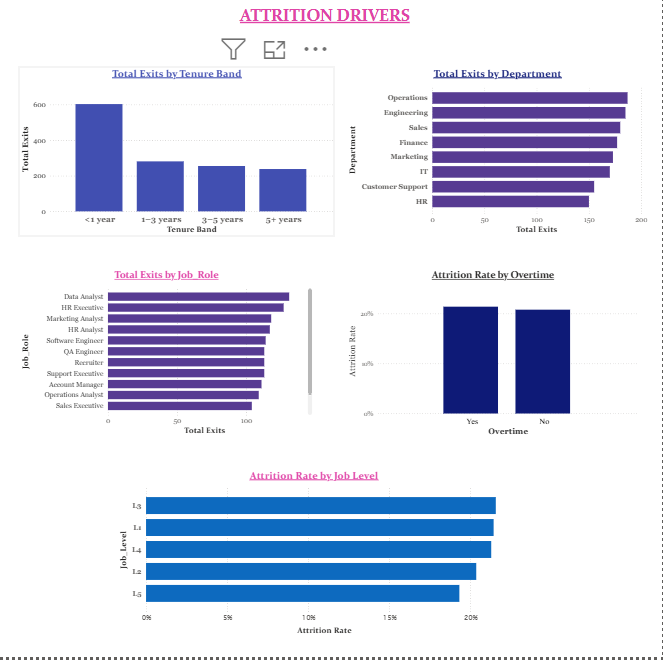

The dashboard page shown, as its layout file describes it:
{"tool":"powerbi","page":{"name":"Page 2","canvas":[1280,1280],"ordinal":1},"visuals":[{"type":"barChart","fields":{"Y":["Employee_stats_project3_cleaned.Total Exits"],"Category":["Employee_stats_project3_cleaned.Job_Role"]},"box":[42,536,568,324],"z":1000},{"type":"columnChart","fields":{"Y":["Employee_stats_project3_cleaned.Total Exits"],"Category":["Employee_stats_project3_cleaned.Tenure Band"]},"box":[42,146,608,326],"z":2000},{"type":"barChart","fields":{"Category":["Employee_stats_project3_cleaned.Department"],"Y":["Employee_stats_project3_cleaned.Total Exits"]},"box":[670,146,584,326],"z":3000},{"type":"columnChart","fields":{"Y":["Employee_stats_project3_cleaned.Attrition Rate"],"Category":["Employee_stats_project3_cleaned.Overtime"]},"box":[670,536,566,324],"z":3001},{"type":"clusteredBarChart","title":"Attrition Rate by Job Level","fields":{"Category":["Employee_stats_project3_cleaned.Job_Level"],"Y":["Employee_stats_project3_cleaned.Attrition Rate"]},"box":[230,918,760,324],"z":3002},{"type":"textbox","box":[110,24,1044,56],"z":3003}]}

Visuals, with their boxes in screenshot pixels (x1, y1, x2, y2), scaled from the page's 1280x1280 canvas onto the 663x663 screenshot:
barChart - Employee_stats_project3_cleaned.Total Exits x Employee_stats_project3_cleaned.Job_Role: [left=22, top=278, right=316, bottom=445]
columnChart - Employee_stats_project3_cleaned.Total Exits x Employee_stats_project3_cleaned.Tenure Band: [left=22, top=76, right=337, bottom=244]
barChart - Employee_stats_project3_cleaned.Department x Employee_stats_project3_cleaned.Total Exits: [left=347, top=76, right=650, bottom=244]
columnChart - Employee_stats_project3_cleaned.Attrition Rate x Employee_stats_project3_cleaned.Overtime: [left=347, top=278, right=640, bottom=445]
"Attrition Rate by Job Level" clusteredBarChart: [left=119, top=475, right=513, bottom=643]
textbox: [left=57, top=12, right=598, bottom=41]
